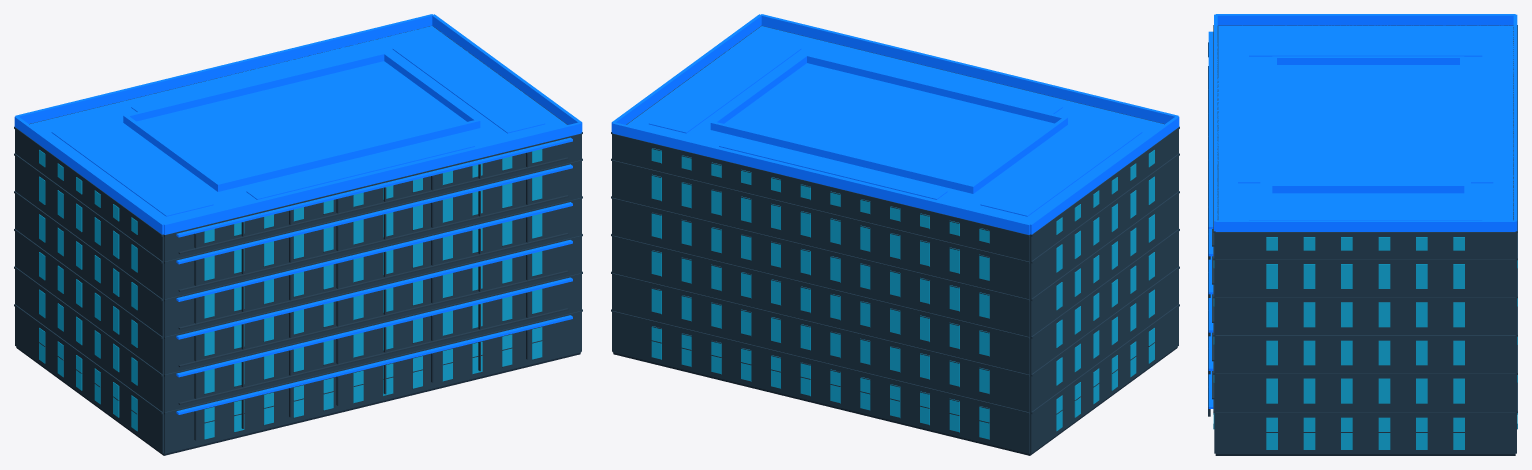
The picture shows the model from 3 angles, left to right: view 1: azimuth 30°, elevation 25°; view 2: azimuth 150°, elevation 25°; view 3: azimuth 270°, elevation 25°; orthographic projection.
Parts seen in each view (by area): view 1: Campus_D_RF_Garden_Garden, Campus_D_RF_Structure_White, Campus_D_RF_Structure_Frame, Campus_D_F01_Envelope_White, Campus_D_F02_Envelope_White, Campus_D_F03_Envelope_White, Campus_D_F05_Envelope_White, Campus_D_F04_Envelope_White, Campus_D_F06_Envelope_White, Campus_D_F01_Glazing_Glass, Campus_D_F02_Glazing_Glass, Campus_D_F03_Glazing_Glass (+18 smaller); view 2: Campus_D_RF_Garden_Garden, Campus_D_RF_Structure_White, Campus_D_RF_Structure_Frame, Campus_D_F01_Envelope_White, Campus_D_F02_Envelope_White, Campus_D_F03_Envelope_White, Campus_D_F05_Envelope_White, Campus_D_F04_Envelope_White, Campus_D_F06_Envelope_White, Campus_D_F01_Glazing_Glass, Campus_D_F05_Glazing_Glass, Campus_D_F03_Glazing_Glass (+6 smaller); view 3: Campus_D_RF_Garden_Garden, Campus_D_RF_Structure_Frame, Campus_D_RF_Structure_White, Campus_D_F01_Envelope_White, Campus_D_F04_Envelope_White, Campus_D_F02_Envelope_White, Campus_D_F03_Envelope_White, Campus_D_F05_Envelope_White, Campus_D_F06_Envelope_White, Campus_D_RF_Structure_Roof, Campus_D_F01_Glazing_Glass, Campus_D_F04_Glazing_Glass (+6 smaller).
Part boxes in pixels (left/top/right/bottom): Campus_D_RF_Garden_Garden: left=33, top=30, right=560, bottom=223; Campus_D_RF_Structure_White: left=14, top=14, right=582, bottom=234; Campus_D_RF_Structure_Frame: left=136, top=61, right=466, bottom=182; Campus_D_F01_Envelope_White: left=14, top=304, right=582, bottom=453; Campus_D_F02_Envelope_White: left=14, top=266, right=582, bottom=412; Campus_D_F03_Envelope_White: left=14, top=229, right=582, bottom=374; Campus_D_F05_Envelope_White: left=14, top=153, right=582, bottom=299; Campus_D_F04_Envelope_White: left=14, top=191, right=582, bottom=336; Campus_D_F06_Envelope_White: left=14, top=26, right=582, bottom=261; Campus_D_F01_Glazing_Glass: left=39, top=327, right=542, bottom=439; Campus_D_F02_Glazing_Glass: left=39, top=289, right=542, bottom=393; Campus_D_F03_Glazing_Glass: left=39, top=251, right=542, bottom=356; Campus_D_RF_Garden_Garden: left=633, top=30, right=1160, bottom=223; Campus_D_RF_Structure_White: left=611, top=14, right=1179, bottom=234; Campus_D_RF_Structure_Frame: left=724, top=63, right=1054, bottom=184; Campus_D_F01_Envelope_White: left=611, top=304, right=1179, bottom=453; Campus_D_F02_Envelope_White: left=611, top=266, right=1179, bottom=412; Campus_D_F03_Envelope_White: left=611, top=229, right=1179, bottom=374; Campus_D_F05_Envelope_White: left=611, top=153, right=1179, bottom=299; Campus_D_F04_Envelope_White: left=611, top=191, right=1179, bottom=336; Campus_D_F06_Envelope_White: left=611, top=25, right=1179, bottom=261; Campus_D_F01_Glazing_Glass: left=651, top=326, right=1154, bottom=439; Campus_D_F05_Glazing_Glass: left=651, top=174, right=1154, bottom=280; Campus_D_F03_Glazing_Glass: left=651, top=250, right=1154, bottom=356; Campus_D_RF_Garden_Garden: left=1227, top=28, right=1504, bottom=220; Campus_D_RF_Structure_Frame: left=1277, top=65, right=1459, bottom=184; Campus_D_RF_Structure_White: left=1214, top=14, right=1517, bottom=231; Campus_D_F01_Envelope_White: left=1213, top=375, right=1517, bottom=453; Campus_D_F04_Envelope_White: left=1213, top=260, right=1517, bottom=335; Campus_D_F02_Envelope_White: left=1213, top=337, right=1517, bottom=411; Campus_D_F03_Envelope_White: left=1213, top=298, right=1517, bottom=373; Campus_D_F05_Envelope_White: left=1213, top=233, right=1517, bottom=297; Campus_D_F06_Envelope_White: left=1213, top=25, right=1517, bottom=258; Campus_D_RF_Structure_Roof: left=1217, top=25, right=1513, bottom=220; Campus_D_F01_Glazing_Glass: left=1213, top=413, right=1517, bottom=449; Campus_D_F04_Glazing_Glass: left=1213, top=298, right=1517, bottom=327.
Bounding box in the file's own units: 44.44 × 23.34 × 27.92.
